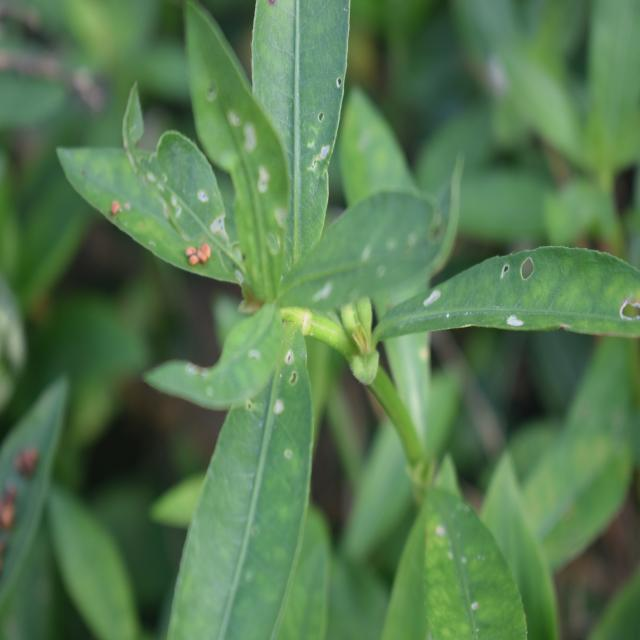Alligatorweed: (62, 11, 526, 552)
